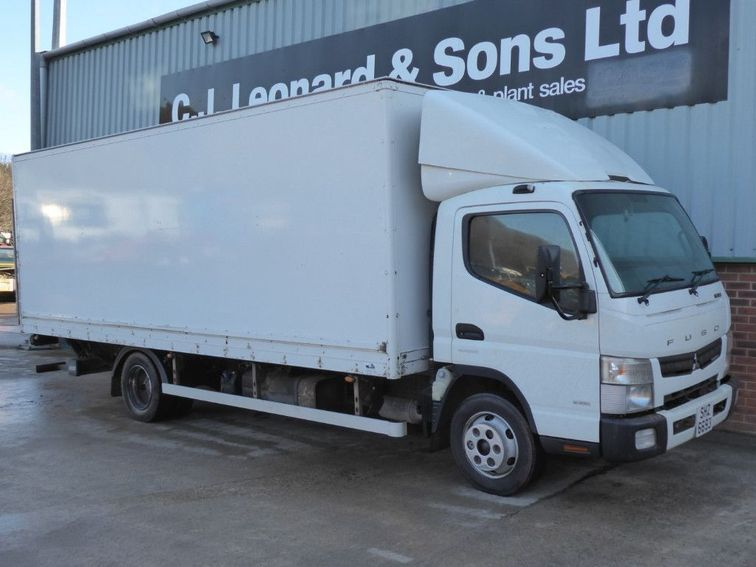Semi: (9, 77, 730, 495)
